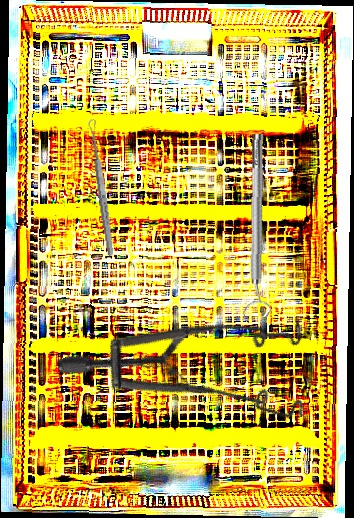Fixation Ring: (241, 133, 274, 318)
Speculum: (55, 257, 338, 504)
Surgical Spoon: (87, 118, 116, 257)
